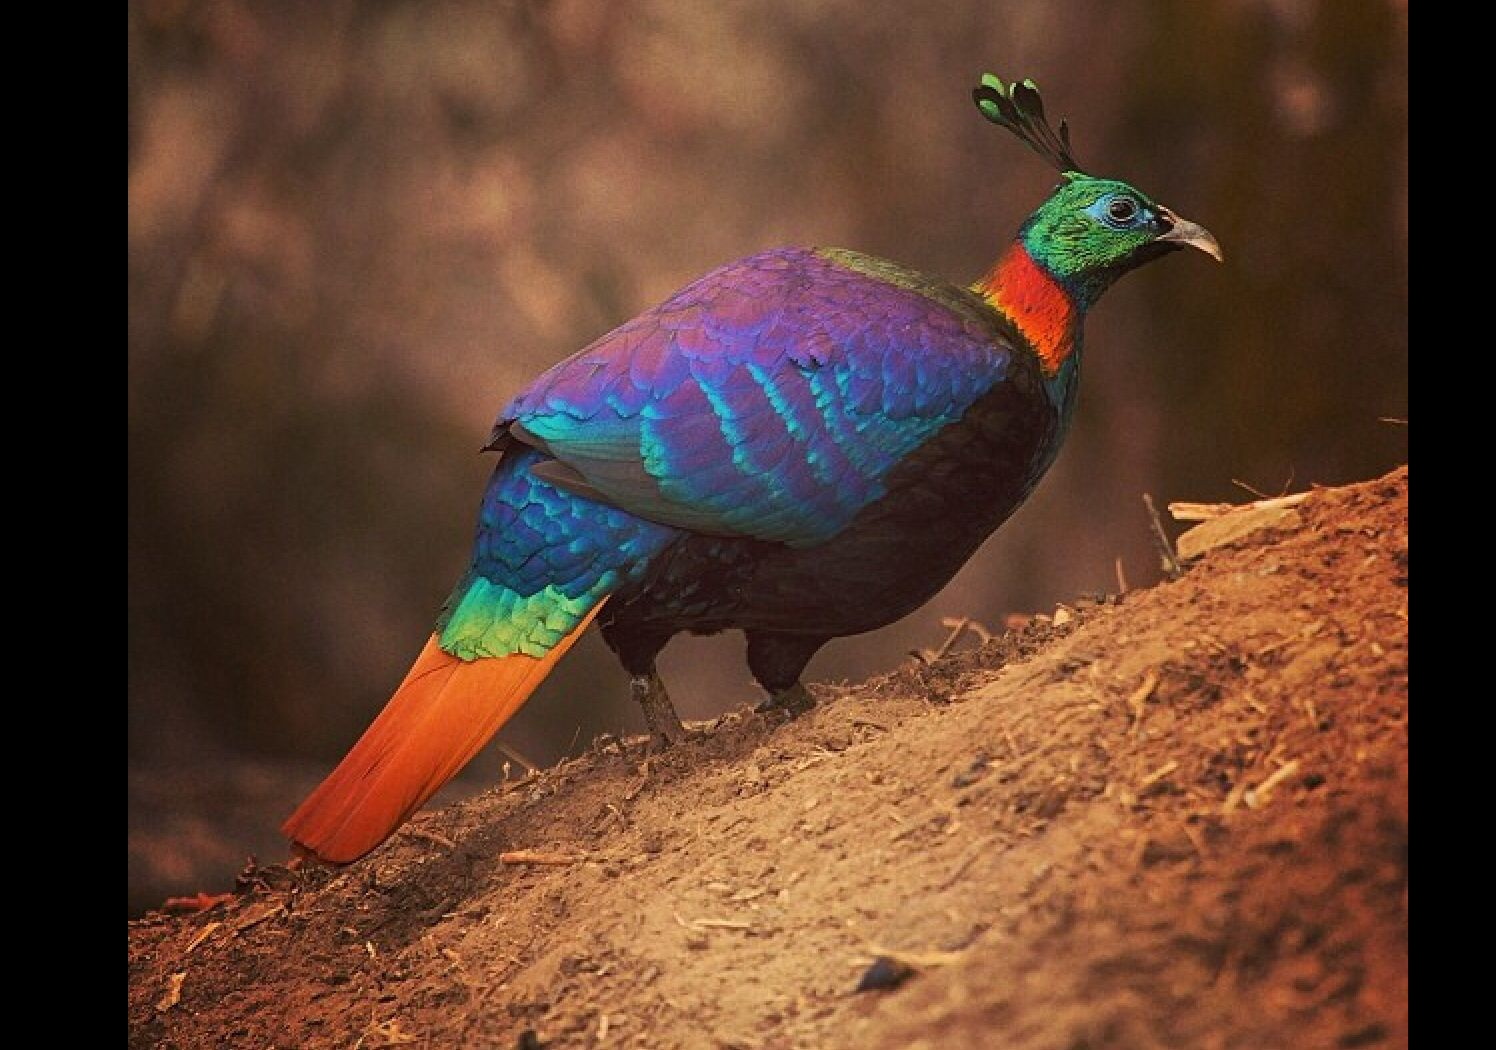bird: (288, 70, 1231, 888)
